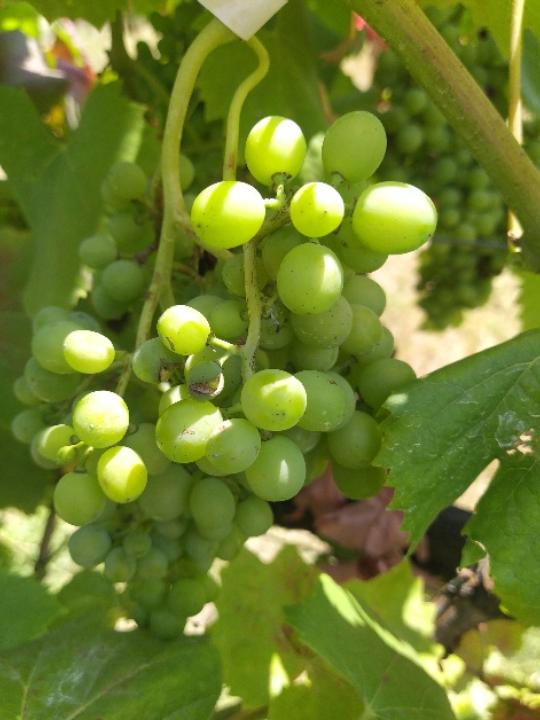grape: (9, 105, 443, 642)
